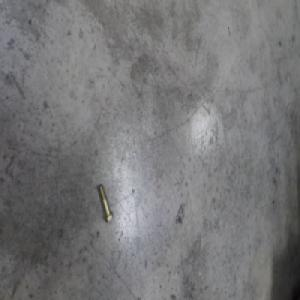Bolt: (96, 184, 113, 225)
